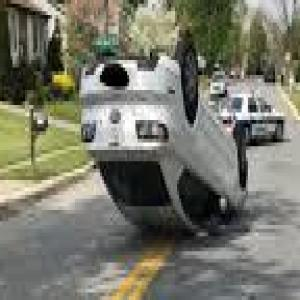fatal: (74, 28, 255, 246)
